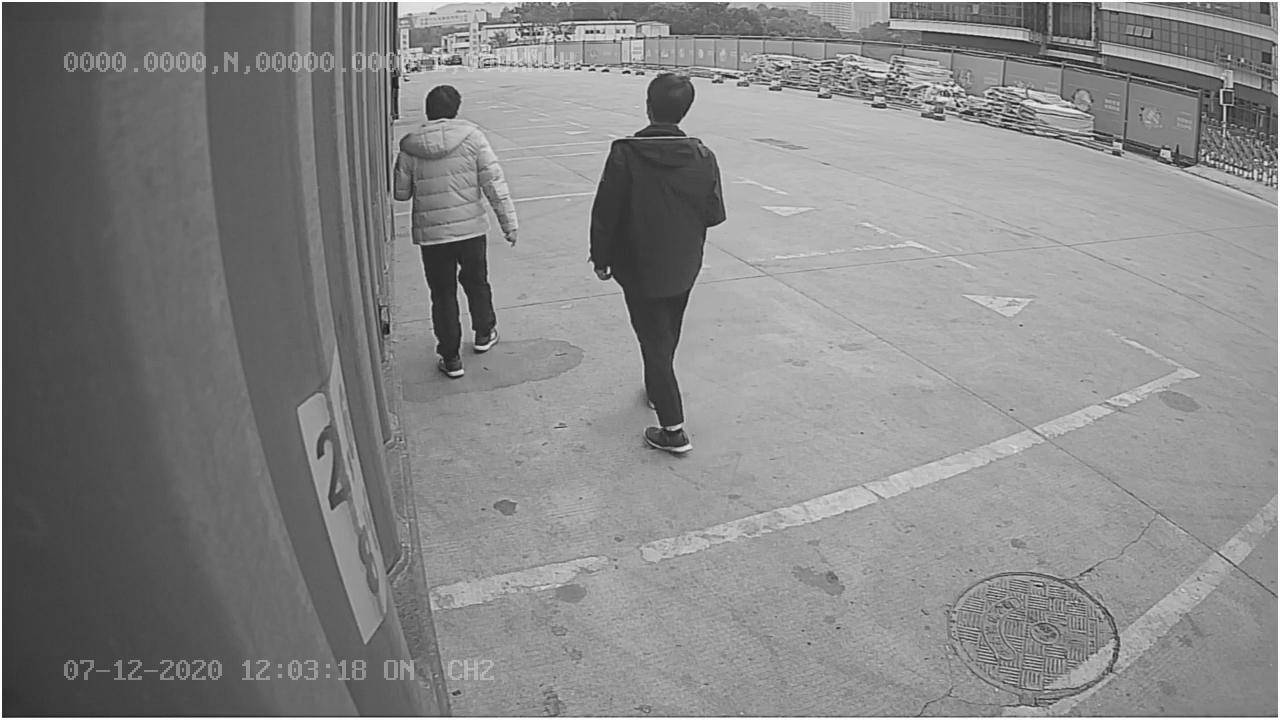person: (588, 62, 729, 454), (393, 84, 521, 381)
